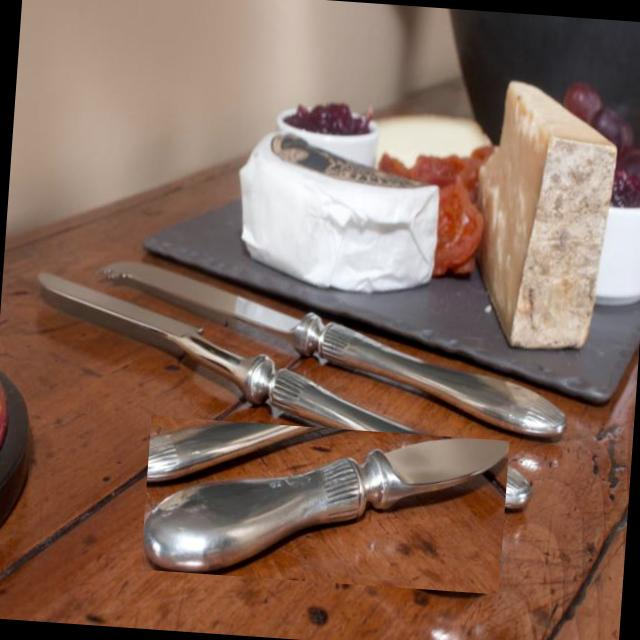Knife: (39, 274, 530, 509), (102, 261, 564, 439), (144, 438, 509, 572)
